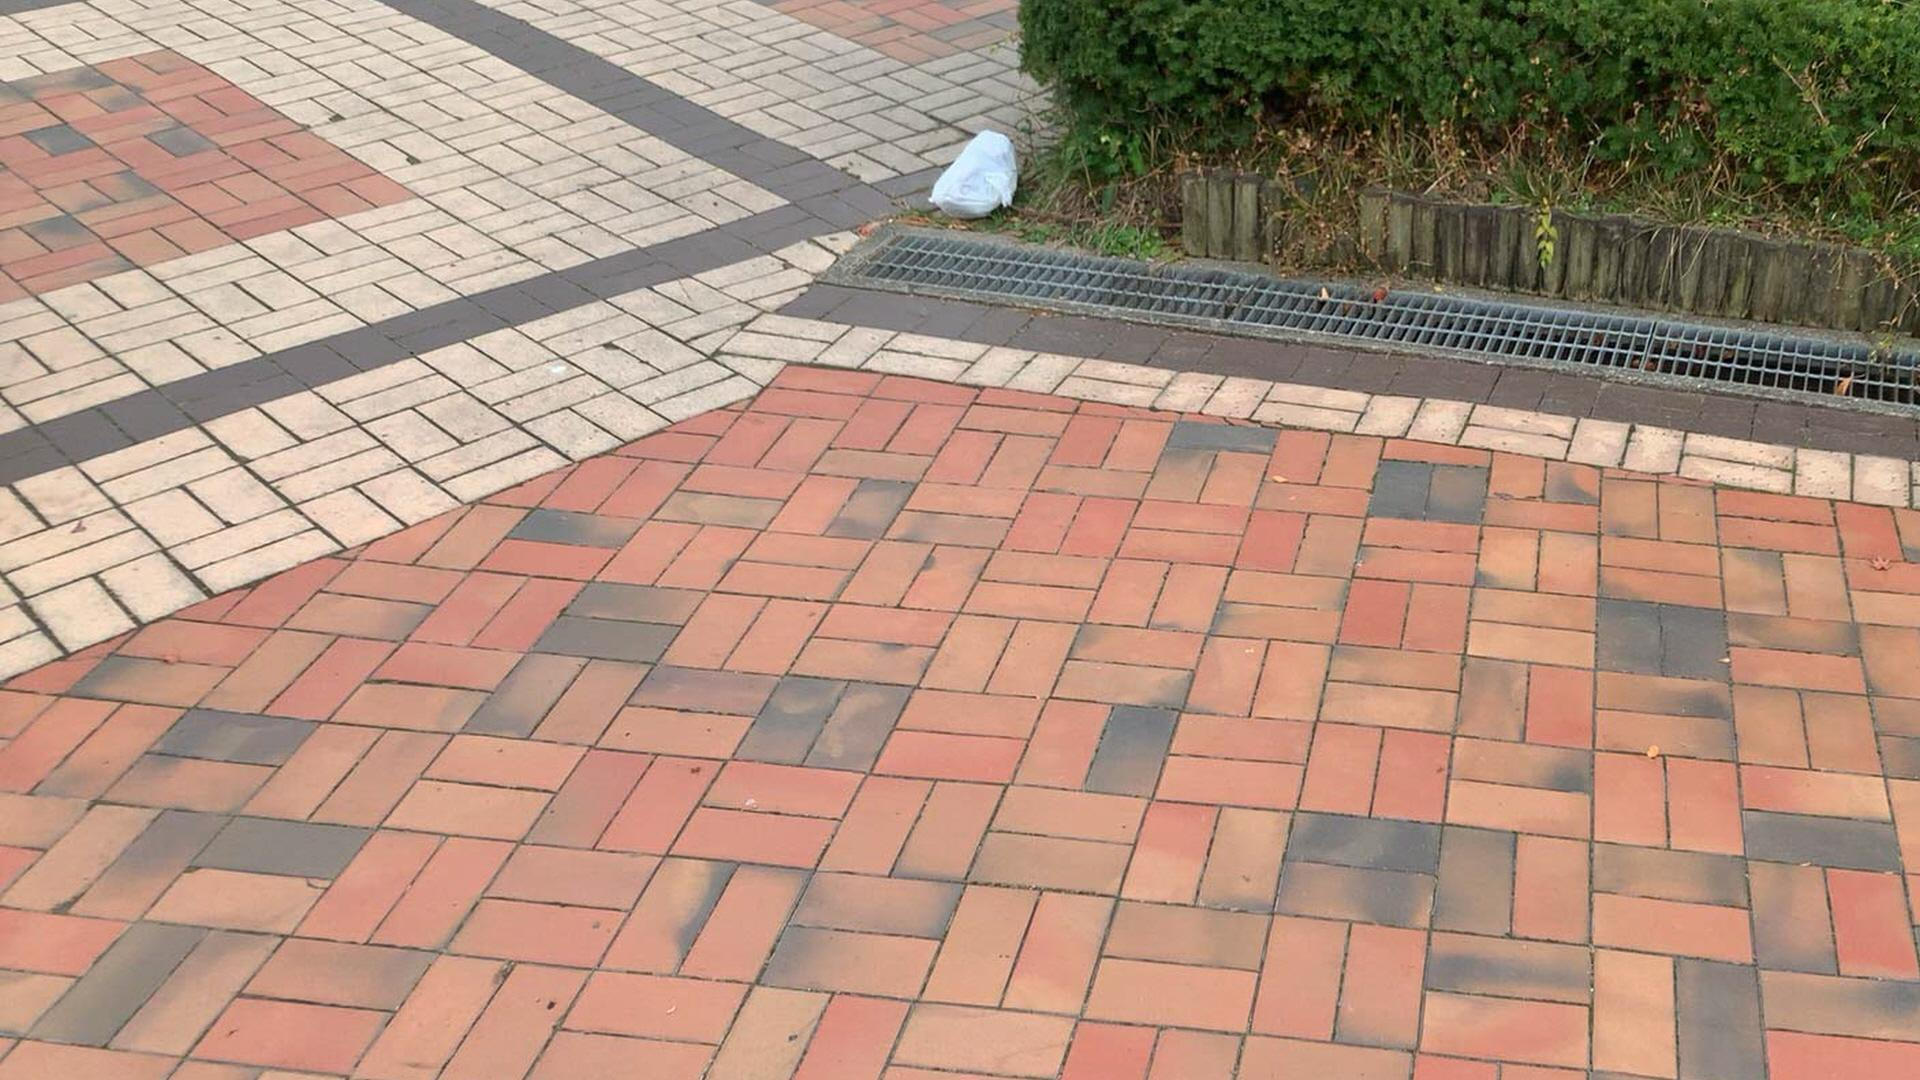white_bag: (924, 127, 1021, 222)
